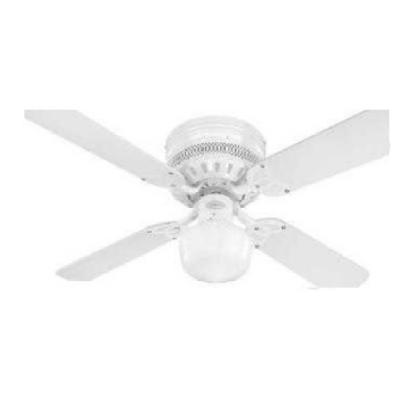ceiling-fan: (24, 110, 390, 288)
